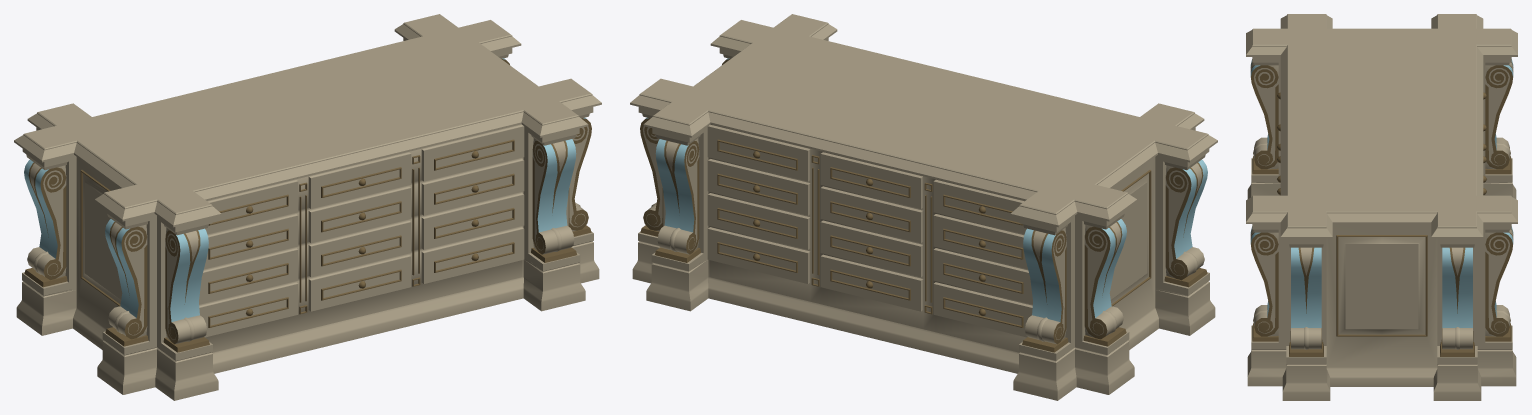
File: HAIERZTKG0304.FBX
3 views of the same model, side by side, from view 1: azimuth 30°, elevation 25°; view 2: azimuth 150°, elevation 25°; view 3: azimuth 270°, elevation 25° (orthographic). The views are drawn at different scales.
Visible parts, largest first — view 1: HAIERZTKG0304; view 2: HAIERZTKG0304; view 3: HAIERZTKG0304.
Boxes of the visible parts, bbox=[...] form: HAIERZTKG0304: bbox=[14, 14, 601, 400]; HAIERZTKG0304: bbox=[630, 14, 1217, 400]; HAIERZTKG0304: bbox=[1246, 14, 1517, 400].
Size of the model in its own units: 214 by 113 by 78.8.
